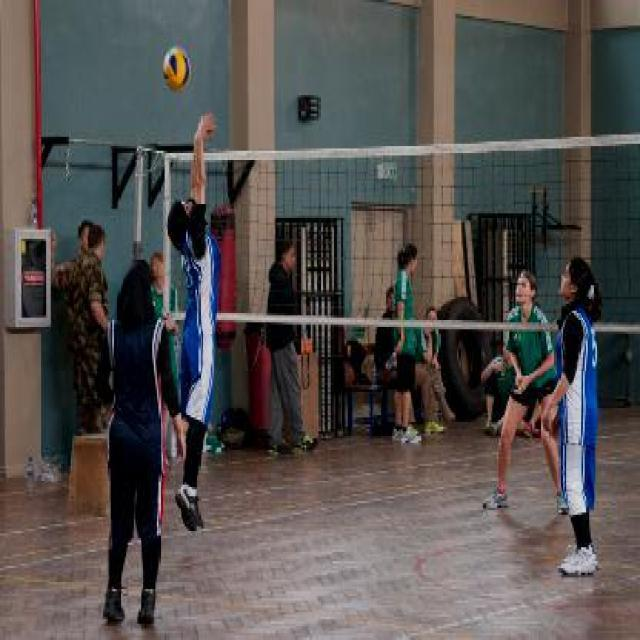volleyball: (162, 45, 190, 93)
